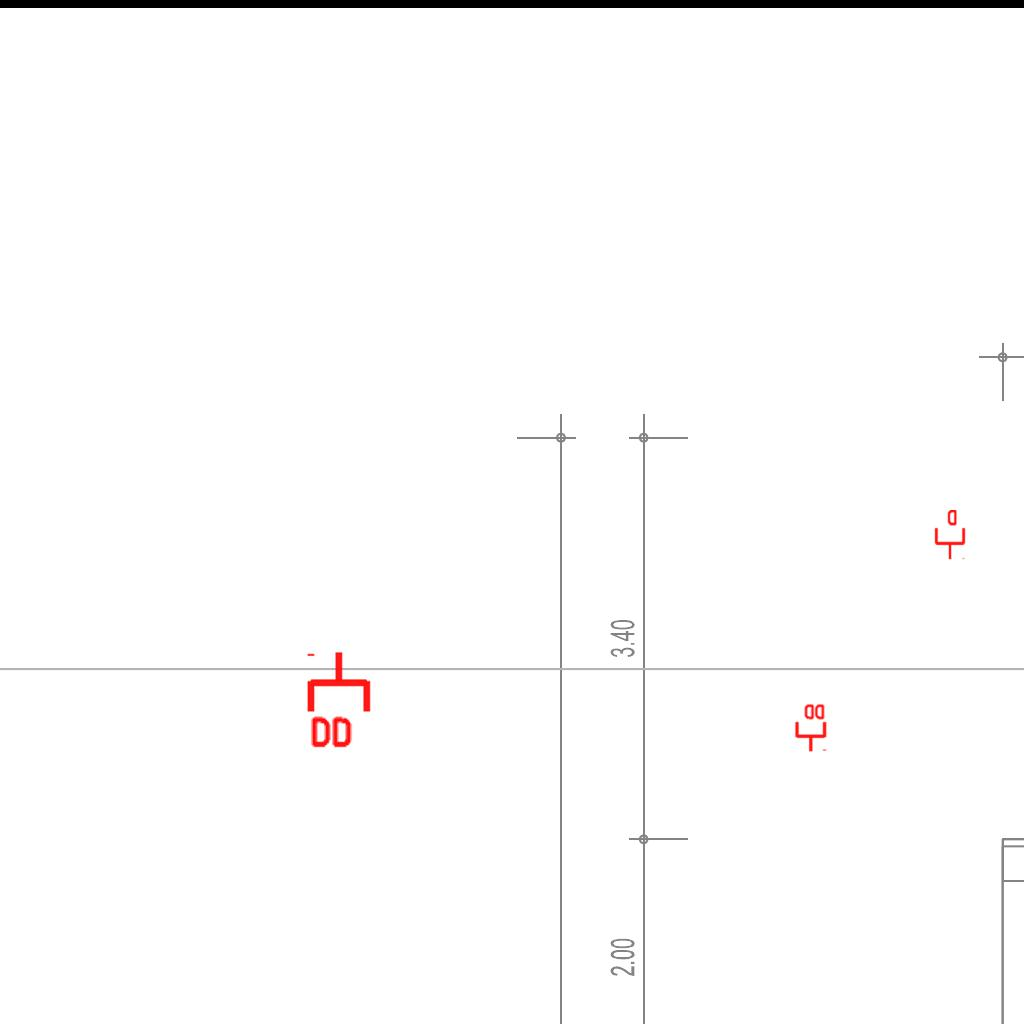Datenanschluss_einfach: (933, 510, 967, 560)
Datenanschluss_zweifach: (306, 649, 375, 752), (793, 702, 827, 753)
